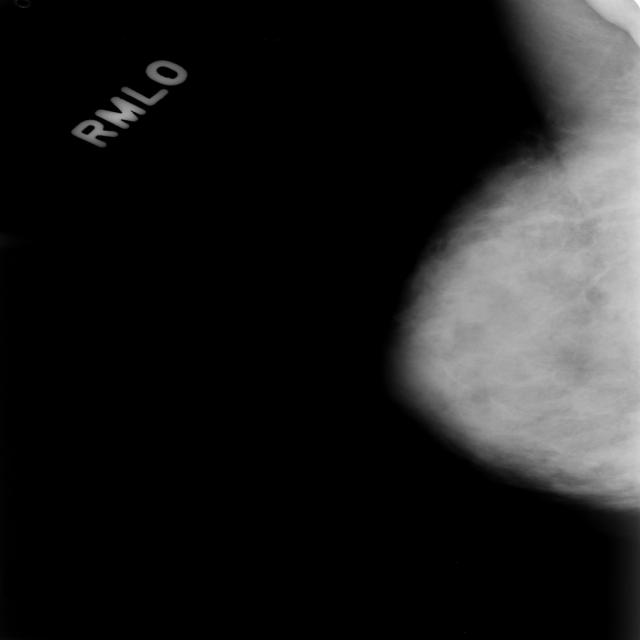normal: (390, 64, 640, 522)
